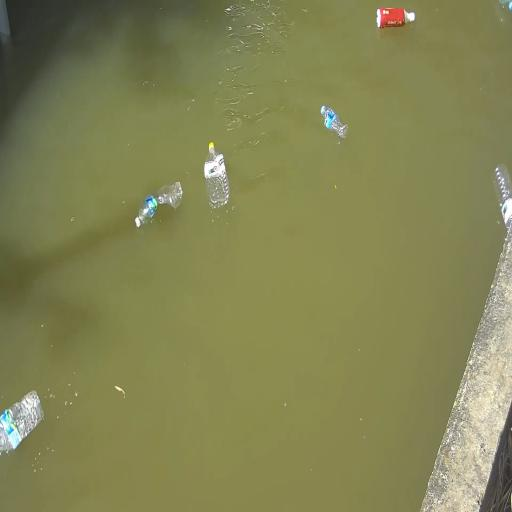plastic: (0, 391, 43, 452), (135, 181, 182, 228), (204, 143, 229, 208), (495, 165, 511, 229), (321, 106, 347, 138), (377, 9, 415, 28)
